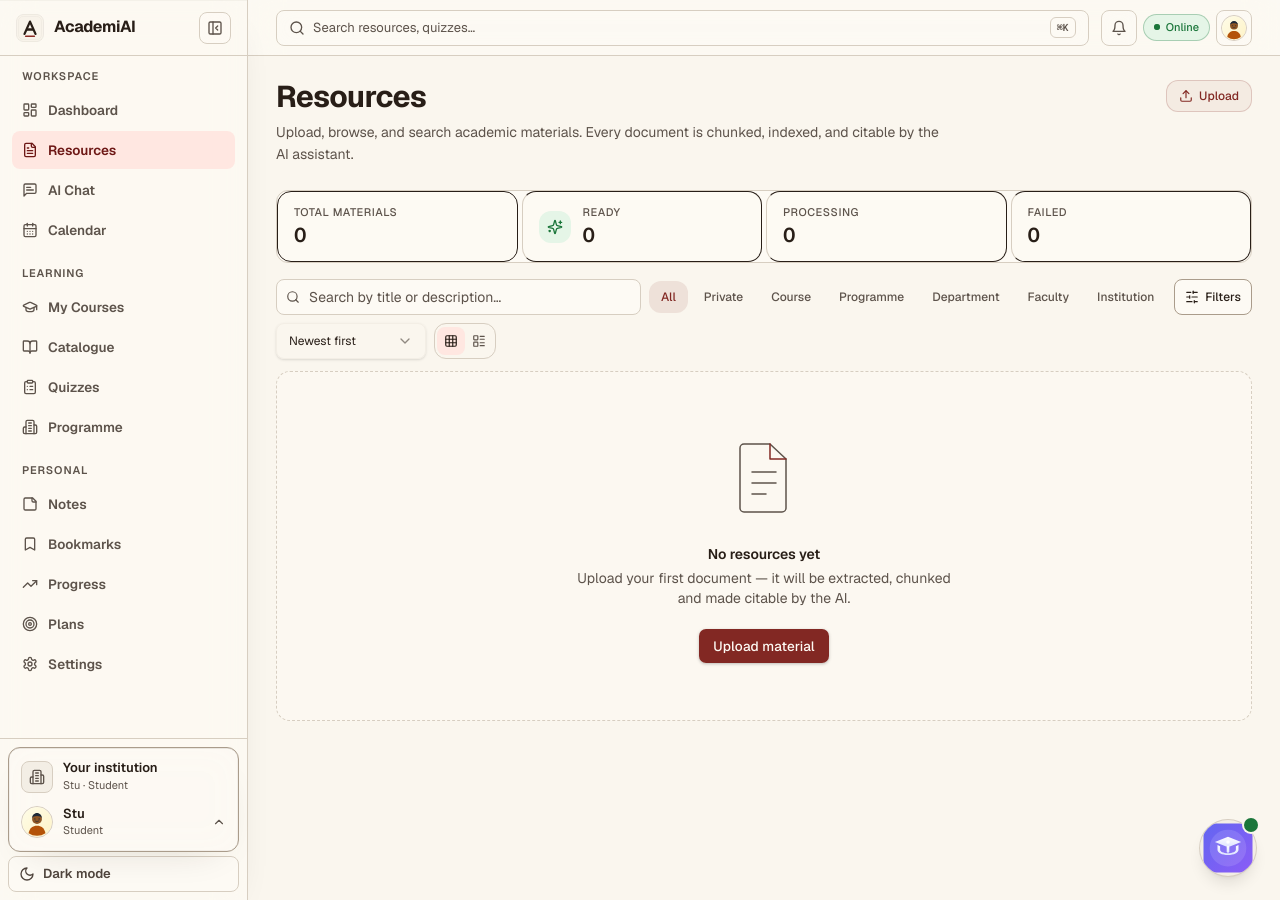
Test: notification inbox › says so when there is nothing in the feed
What coordinates should you click on to do the following:
click the button named "notifications"
I would click on:
 (1119, 28)
Its box is [1101,10,1137,46].
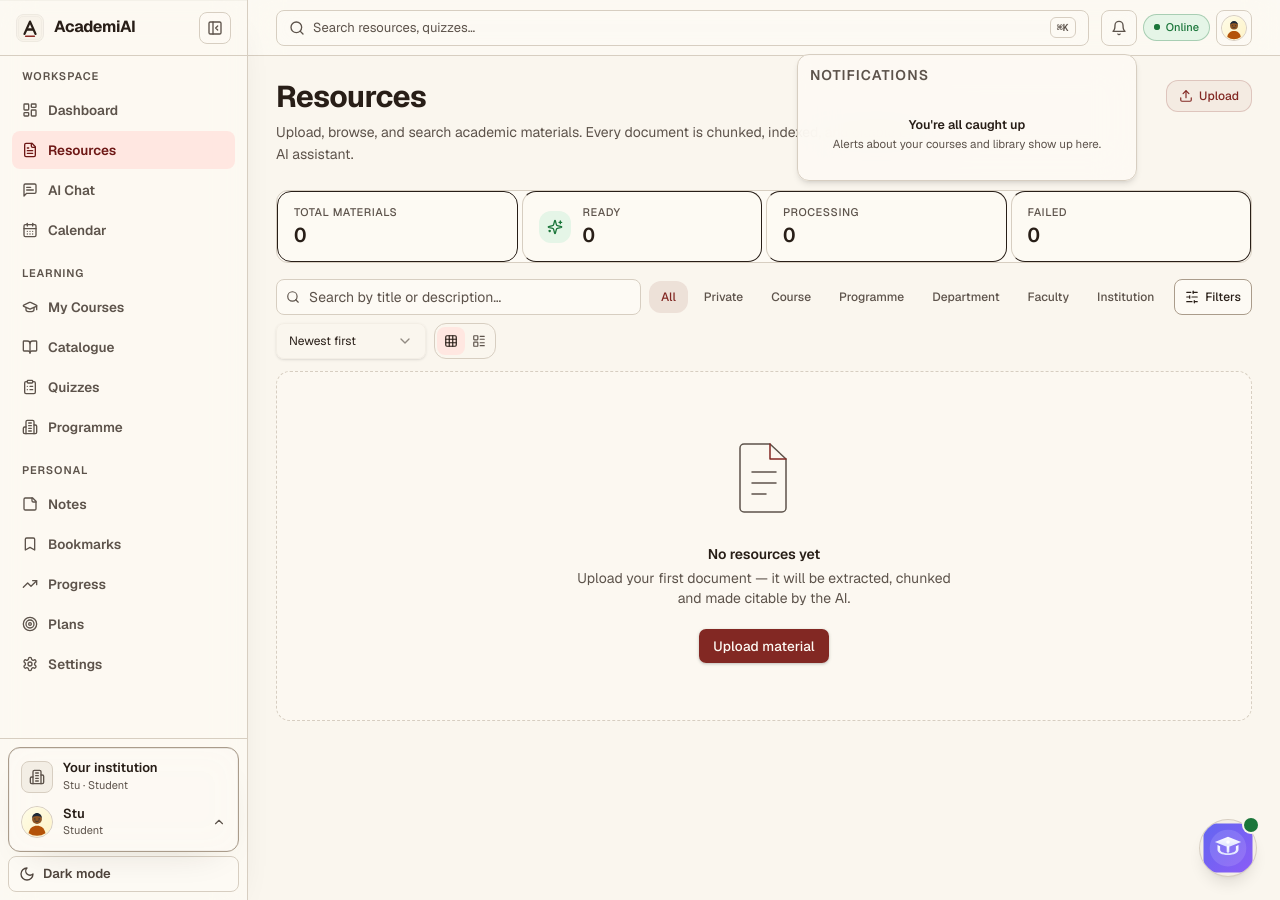
Expected: the text "You're all caught up" is shown, [909,116,1025,133]
